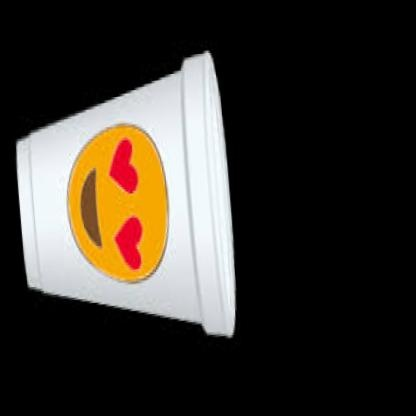trash: (17, 52, 234, 335)
